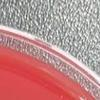white: (75, 92, 89, 100)
